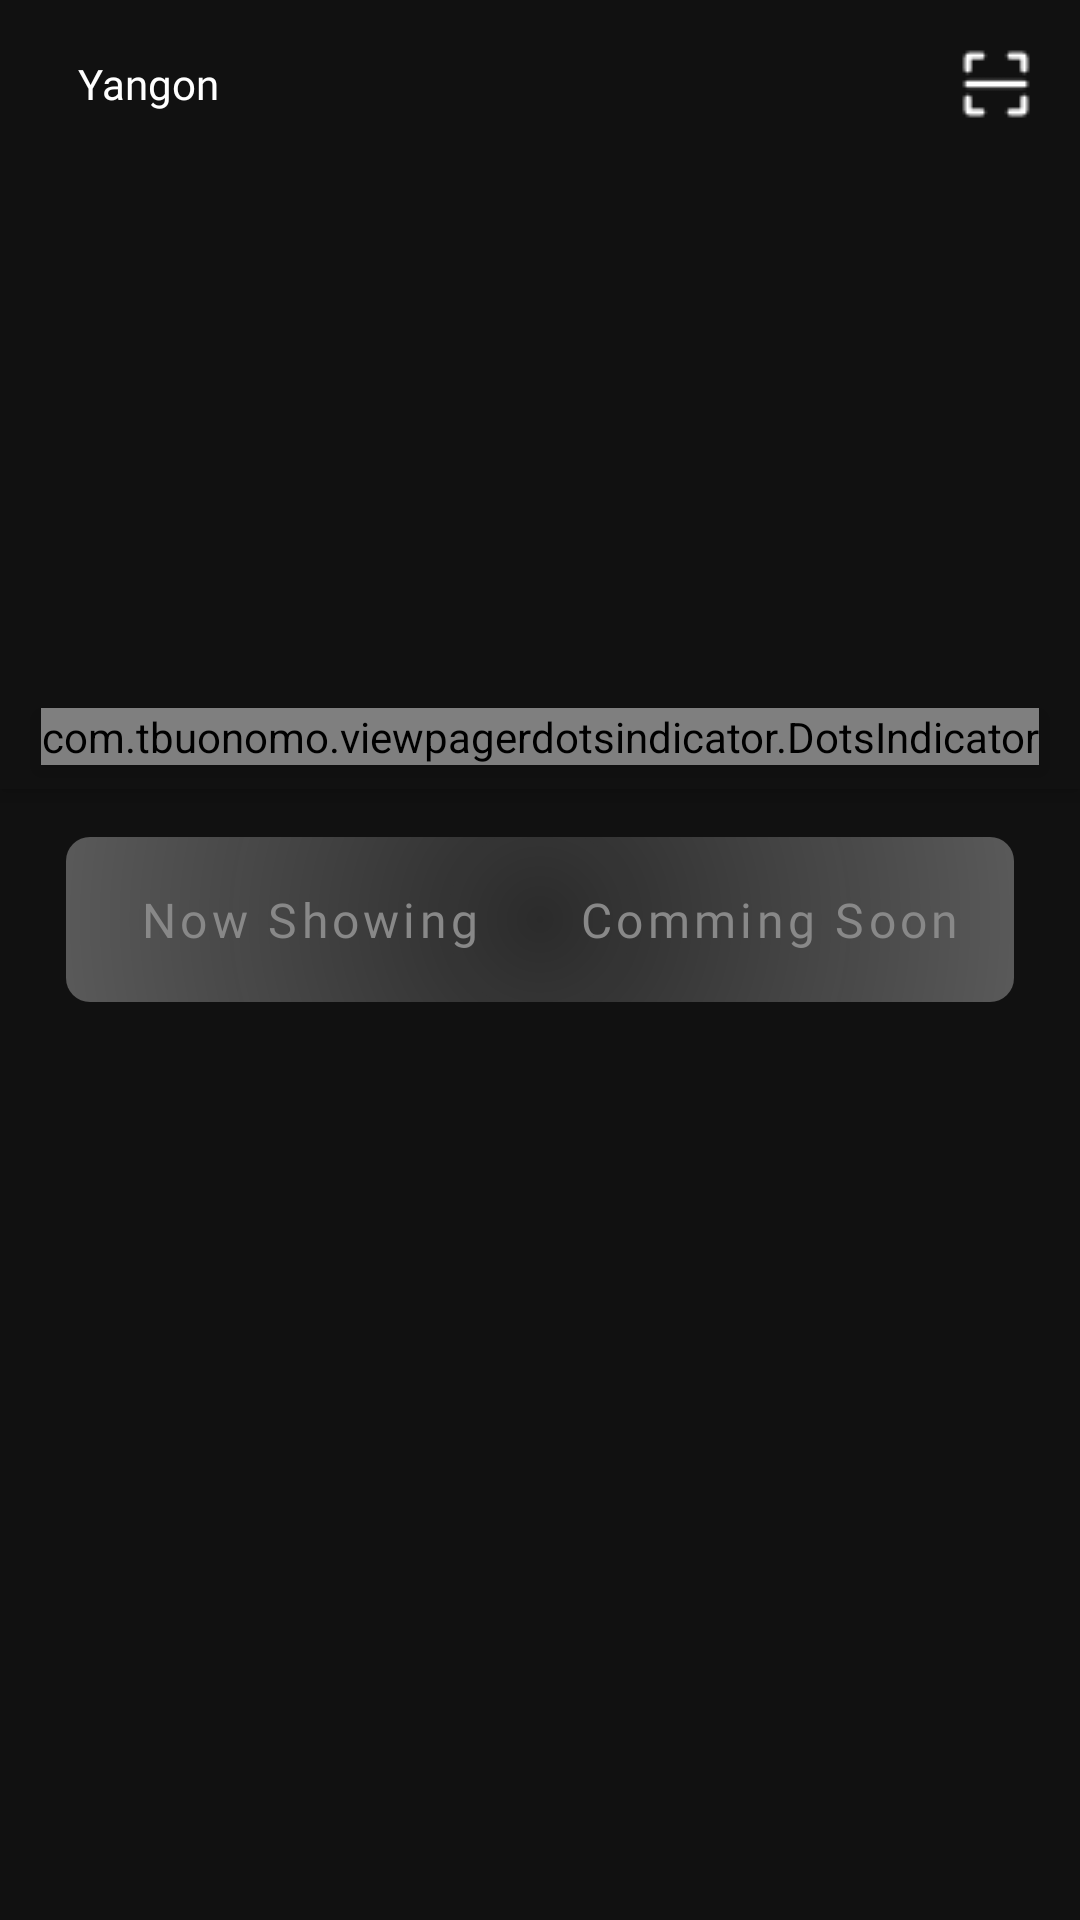

Named icons in this screenshot (1080 x 1920) and their bounding boxes, [x1, y1, x2, y2]:
scan: [962, 50, 1030, 118]
